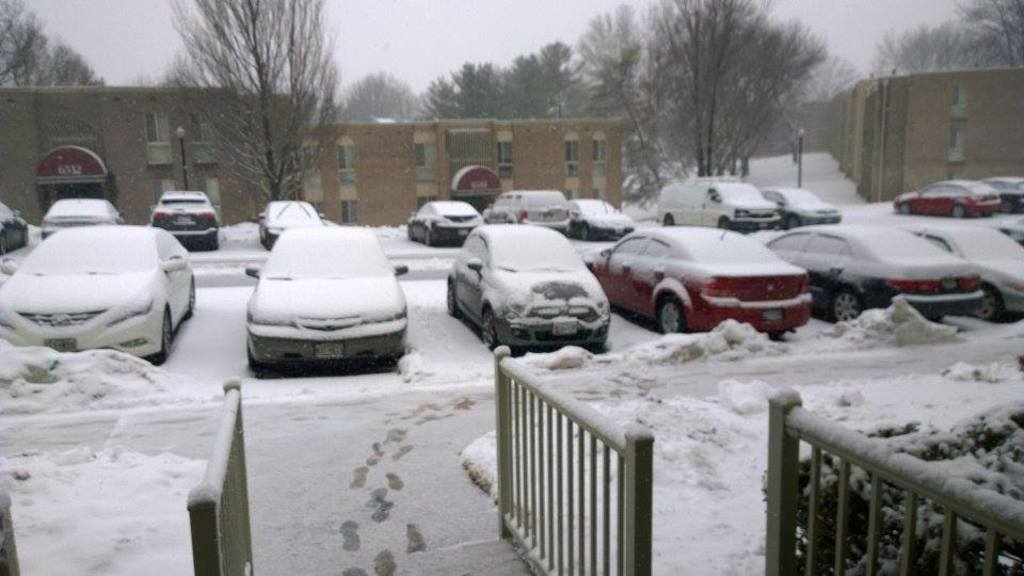cars: (0, 176, 1022, 374), (0, 216, 205, 373), (579, 221, 816, 355), (755, 219, 984, 341), (243, 222, 419, 372), (442, 216, 607, 355), (888, 216, 1023, 325), (660, 176, 793, 230), (149, 181, 224, 256), (478, 187, 573, 240), (885, 175, 1013, 213), (405, 191, 484, 251), (36, 186, 130, 229), (760, 181, 847, 224), (261, 197, 332, 249), (566, 195, 635, 245), (0, 196, 33, 265), (994, 207, 1022, 251), (992, 176, 1022, 206)
